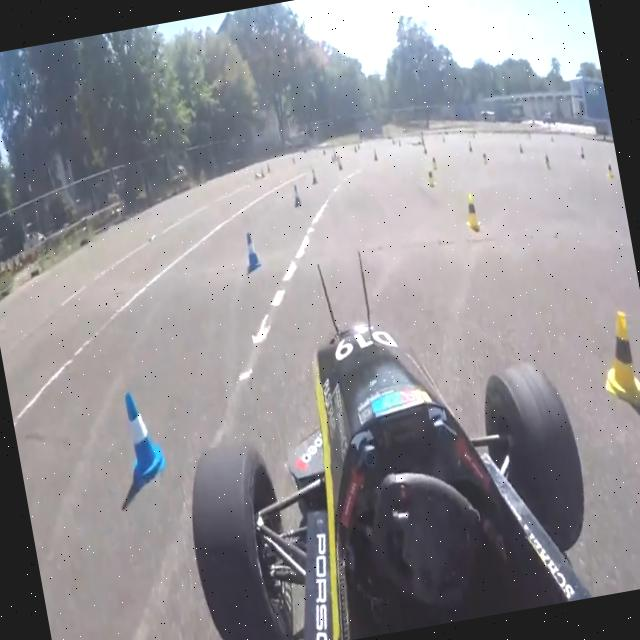blue_cone: (117, 386, 168, 489), (241, 230, 262, 272), (290, 182, 302, 207)
yellow_cone: (593, 307, 640, 411), (462, 192, 481, 230)
